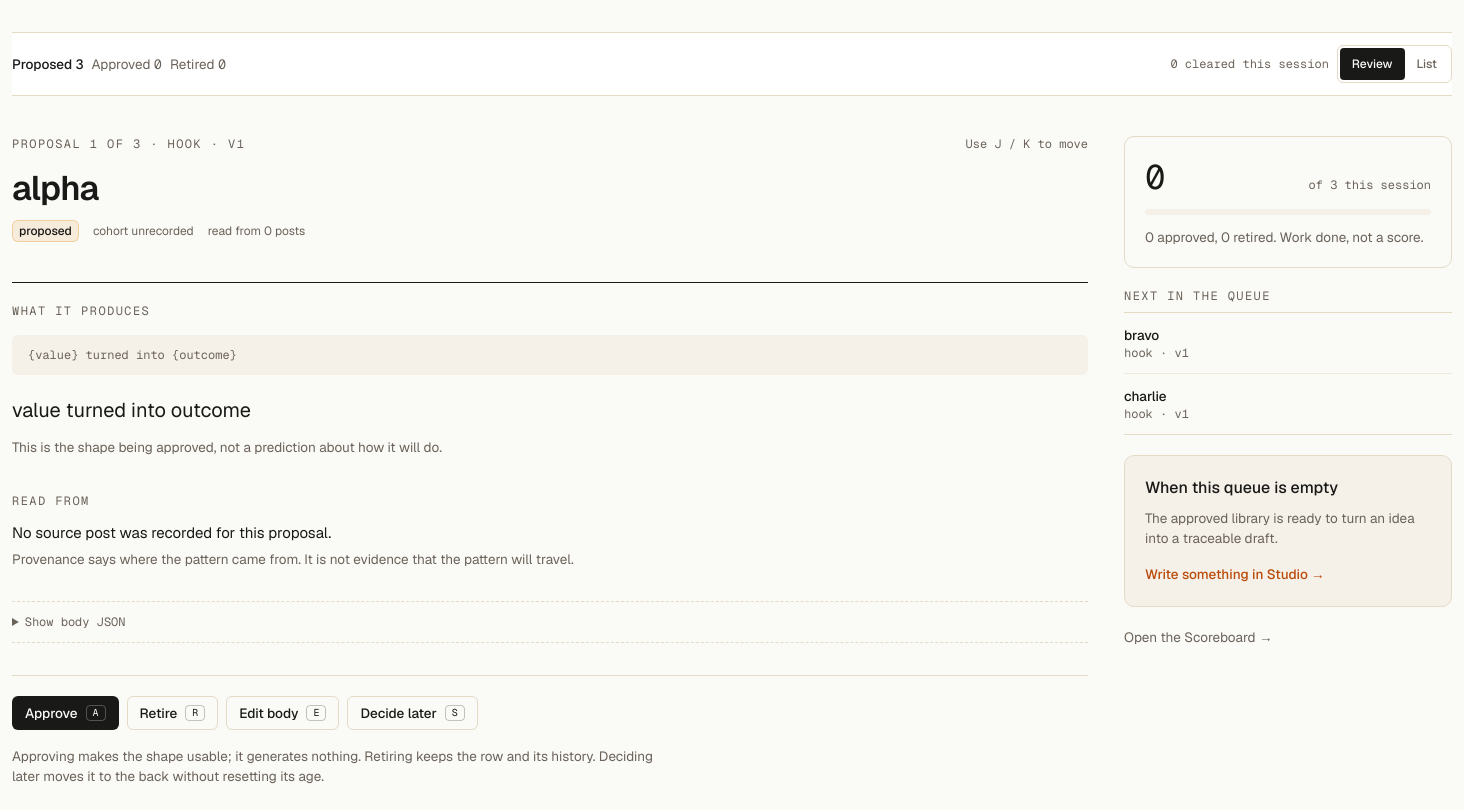
Test: deciding later › defers the item on screen and reorders the queue behind the rest
Expected: the heading "alpha" is shown, [12,166,98,210]
What coordinates should you click on to do the following:
click the button "Decide later S"
I would click on:
 (413, 713)
Its box is [348,696,478,730].
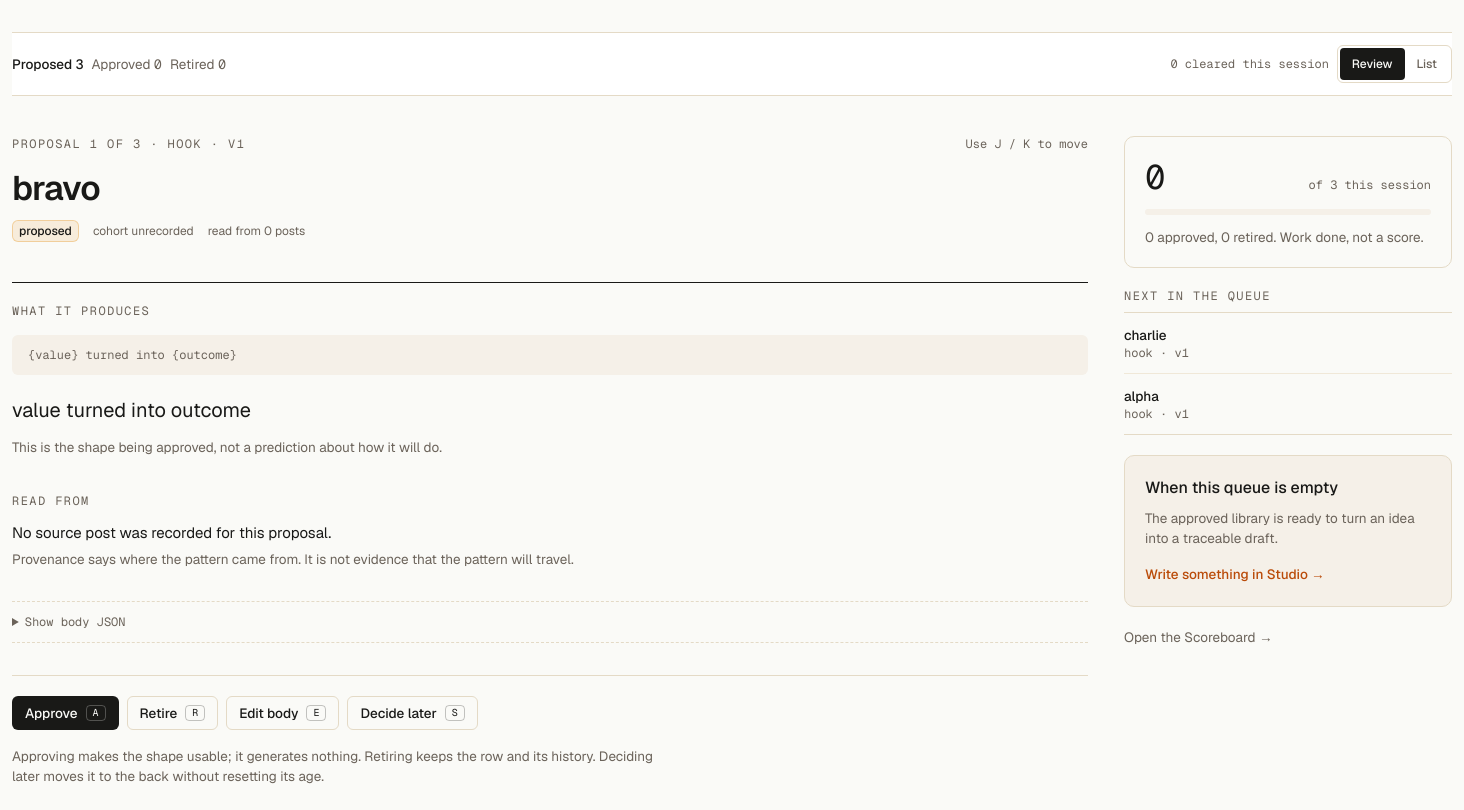
Expected: the heading "bravo" is shown, [12,166,100,210]
